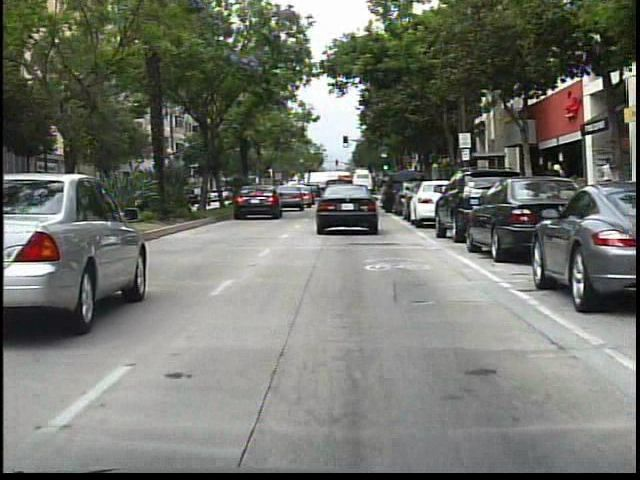person: (535, 157, 561, 222), (542, 159, 570, 219), (596, 151, 620, 218)
